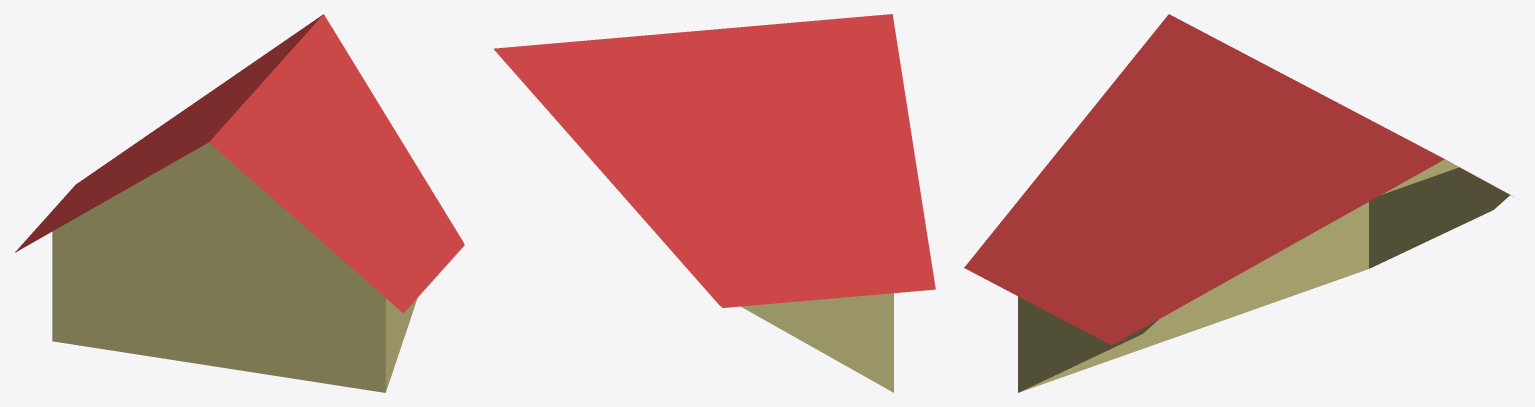
3 renders of one model, left to right at view 1: azimuth 30°, elevation 25°; view 2: azimuth 150°, elevation 25°; view 3: azimuth 270°, elevation 25°, orthographic. The views are drawn at different scales.
Size of the model in its own units: 10.15 by 10.89 by 6.57.
